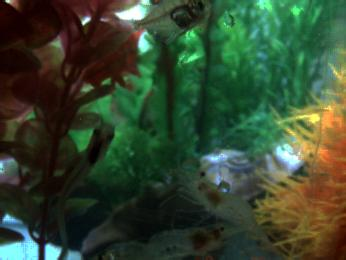X-ray fish: (118, 1, 214, 41)
glassfish: (49, 120, 118, 260)
siberian prawn: (162, 161, 282, 256), (131, 221, 246, 260)
